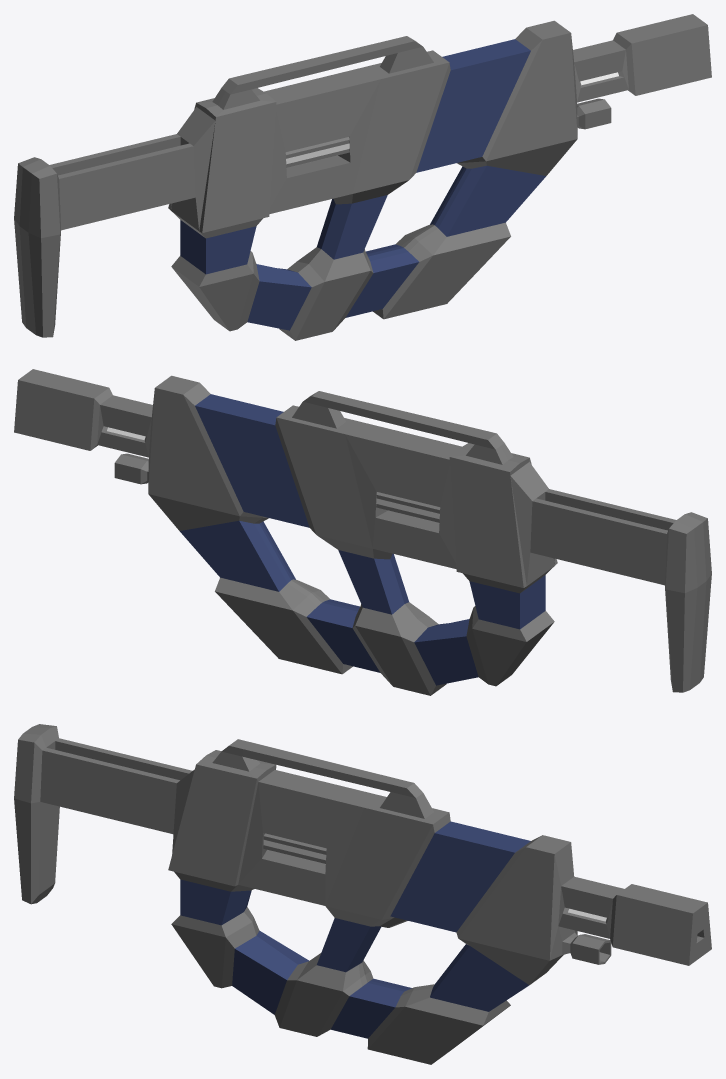
The model's file is SMG.fbx.
The picture shows the model from 3 angles, top to bottom: view 1: azimuth 30°, elevation 25°; view 2: azimuth 150°, elevation 25°; view 3: azimuth 330°, elevation 25°; orthographic projection.
Parts seen in each view (by area): view 1: SMG; view 2: SMG; view 3: SMG.
Boxes of the visible parts, x1,y1,x2,y2 form: SMG: [14, 14, 711, 340]; SMG: [14, 369, 711, 695]; SMG: [14, 724, 711, 1064].
Bounding box in the file's own units: 63.93 × 24.07 × 5.58.
